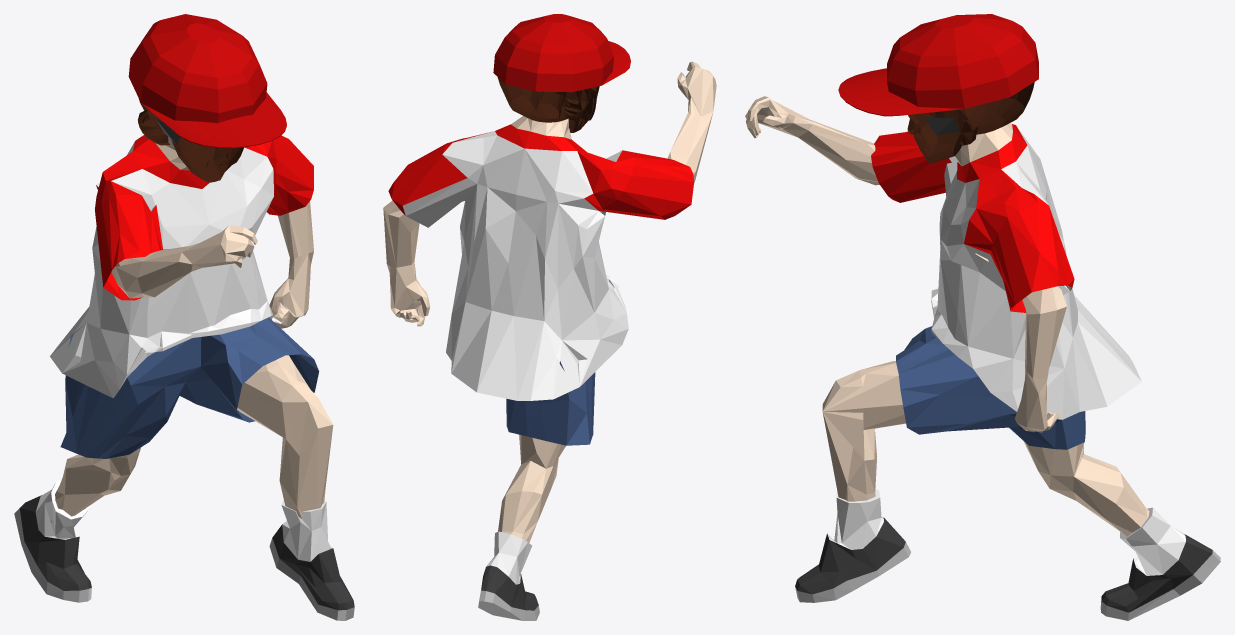
The model's file is kid6.obj.
The picture shows the model from 3 angles, left to right: view 1: azimuth 30°, elevation 25°; view 2: azimuth 150°, elevation 25°; view 3: azimuth 270°, elevation 25°; orthographic projection. The views are drawn at different scales.
Parts seen in each view (by area): view 1: Mesh1_Group2_Group1_Model.001; view 2: Mesh1_Group2_Group1_Model.001; view 3: Mesh1_Group2_Group1_Model.001.
Part boxes in pixels (x1,y1,x2,y2): Mesh1_Group2_Group1_Model.001: [14, 14, 354, 620]; Mesh1_Group2_Group1_Model.001: [383, 14, 716, 620]; Mesh1_Group2_Group1_Model.001: [745, 14, 1220, 620].
Size of the model in its own units: 18.66 by 39.65 by 27.74.
